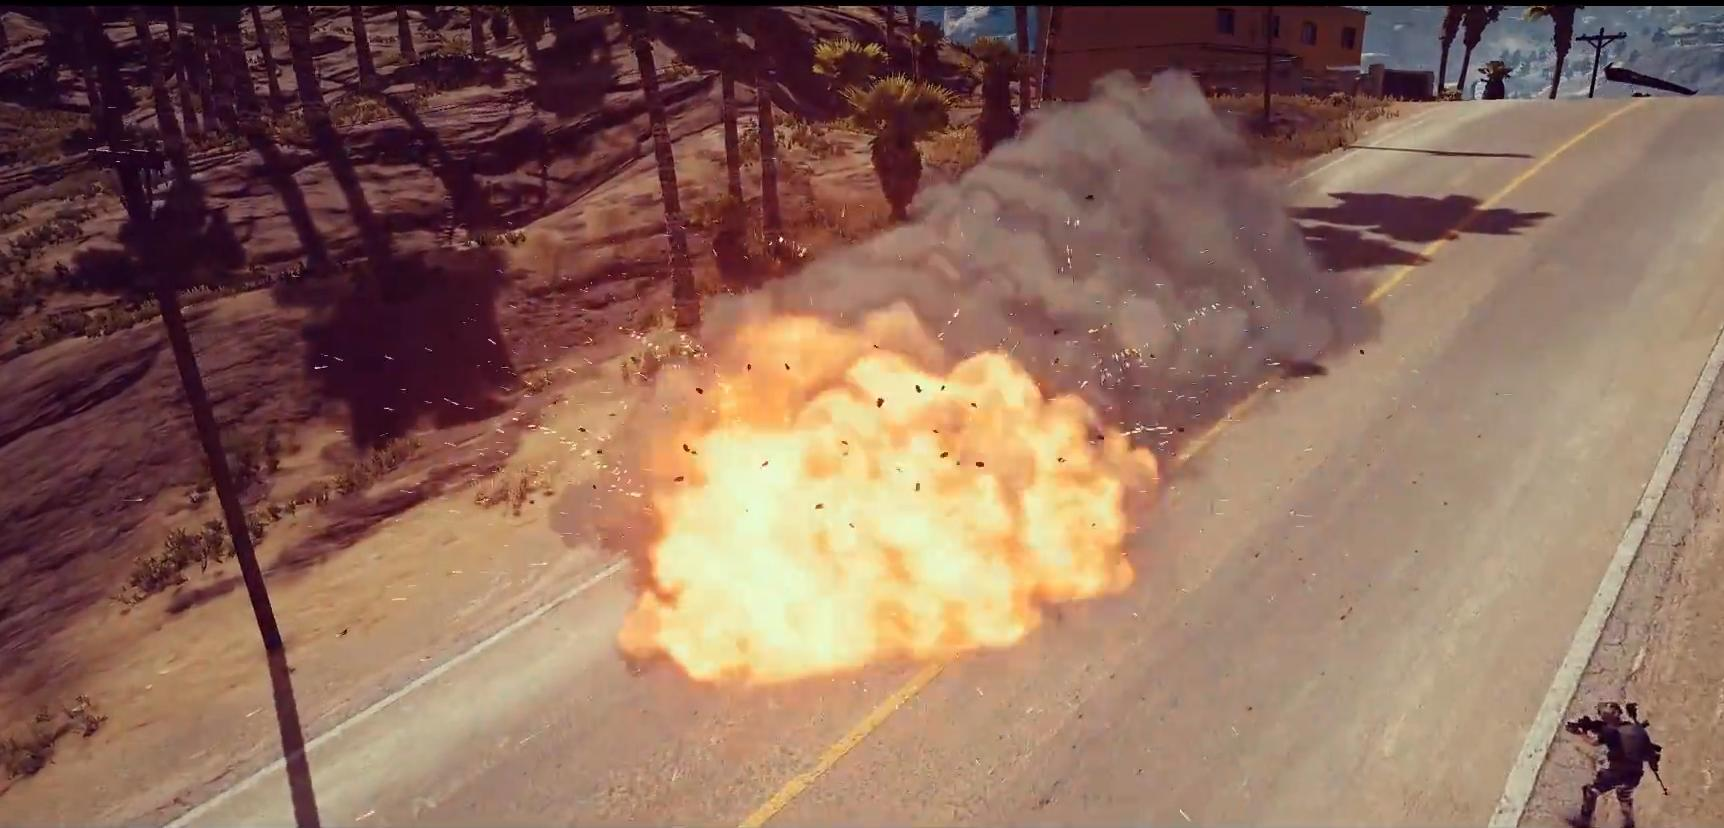fire: (586, 238, 1200, 706)
